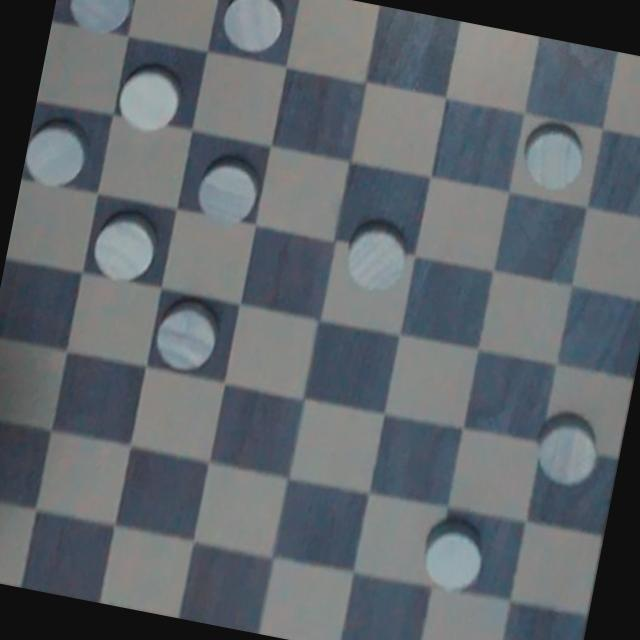BOARD: (0, 0, 640, 640)
white: (412, 508, 500, 604), (336, 210, 424, 306), (526, 406, 608, 501), (517, 114, 593, 202), (89, 203, 164, 290), (150, 293, 228, 375), (20, 116, 95, 200), (206, 0, 297, 68), (188, 149, 264, 228), (116, 64, 186, 135), (56, 0, 143, 46)
